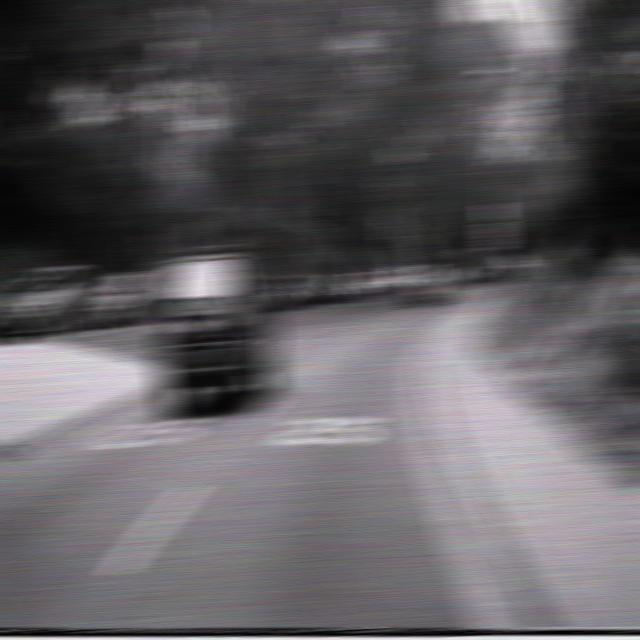speedLimit25: (480, 220, 508, 252)
